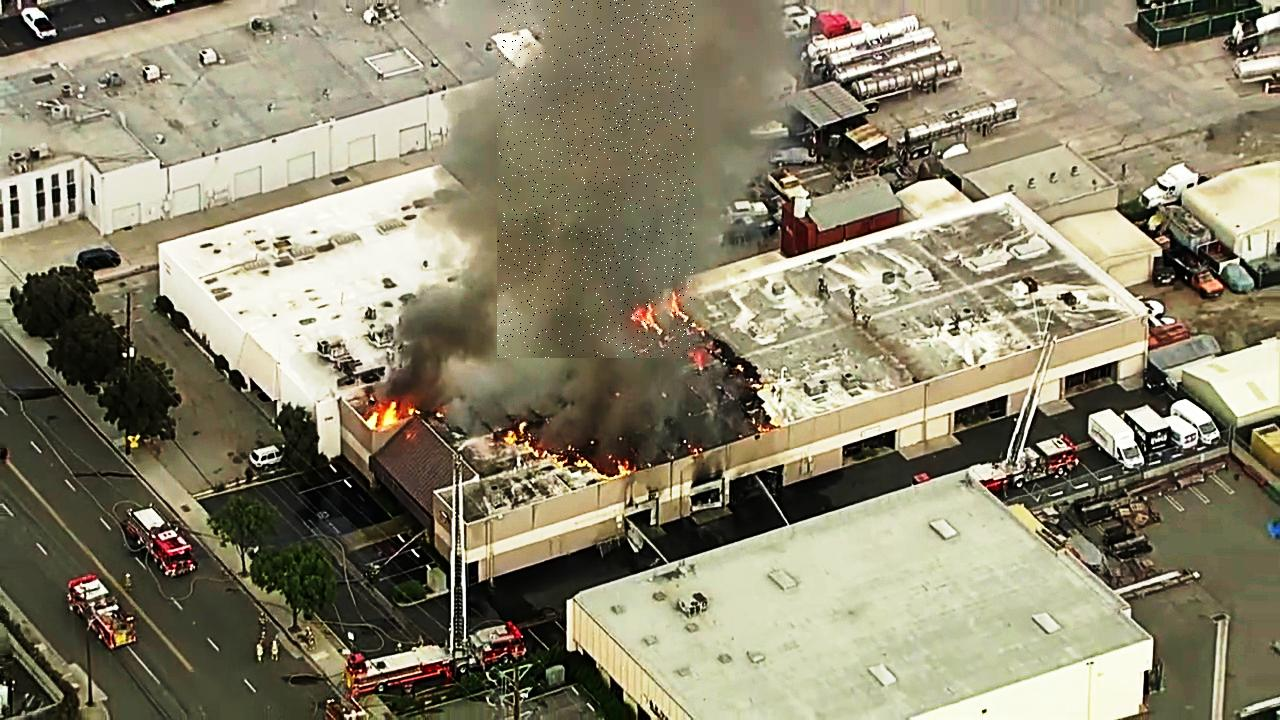smoke: (497, 0, 695, 358)
